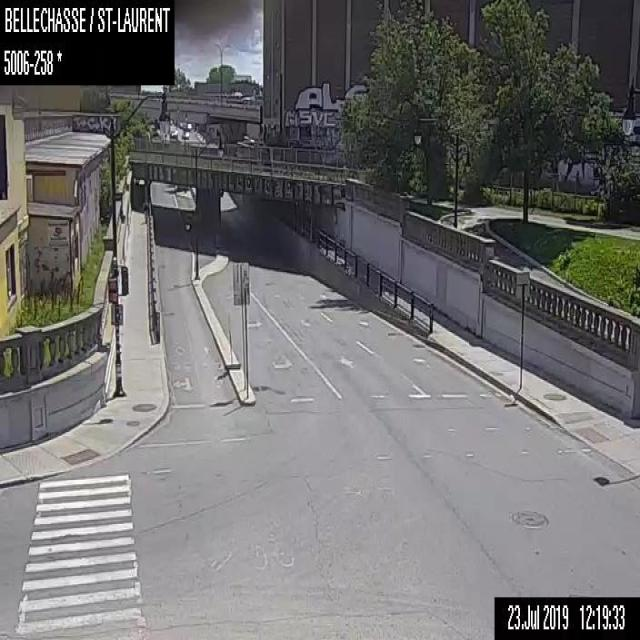vehicle: (181, 132, 189, 138)
